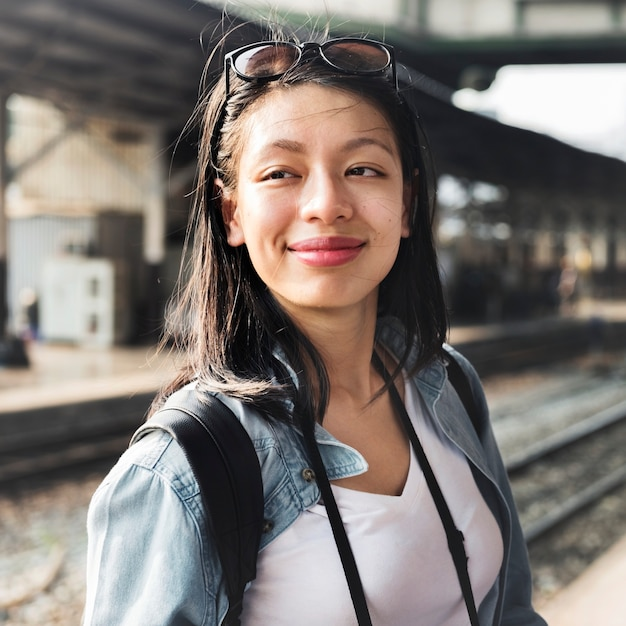teen: (203, 35, 415, 312)
